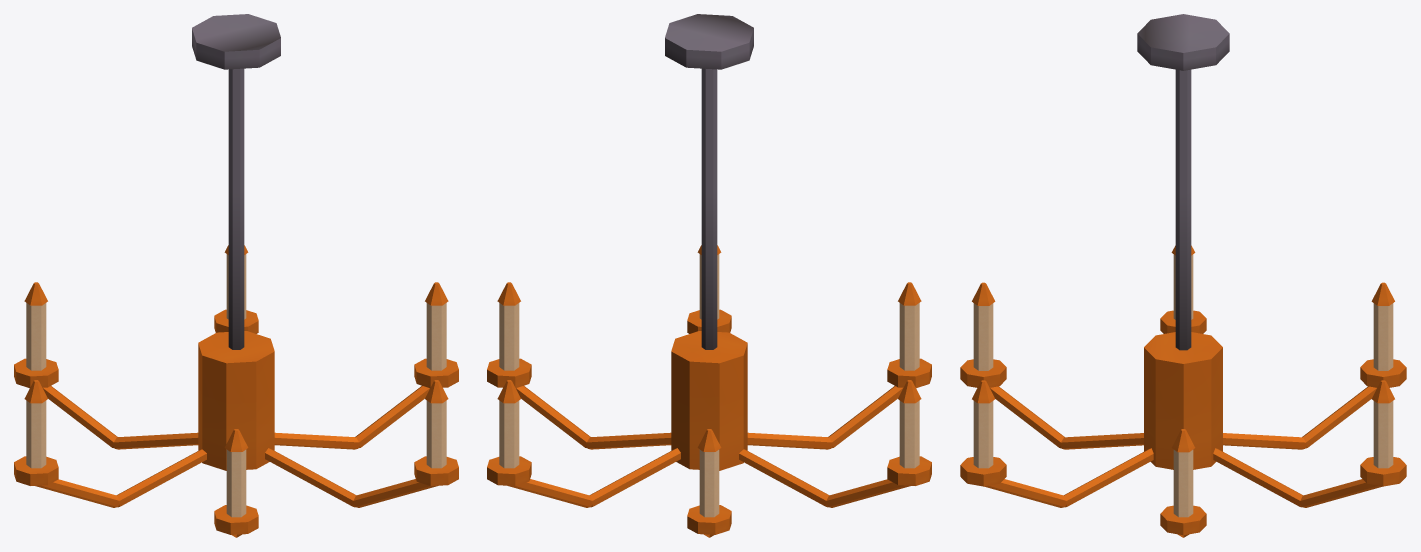
File: Chandelier.fbx
3 renders of one model, left to right at view 1: azimuth 30°, elevation 25°; view 2: azimuth 150°, elevation 25°; view 3: azimuth 270°, elevation 25°, orthographic.
Visible parts, largest first — view 1: Chandelier; view 2: Chandelier; view 3: Chandelier.
Part boxes in pixels (<box>): Chandelier: <box>14,14,458,537</box>; Chandelier: <box>487,14,931,537</box>; Chandelier: <box>960,14,1406,537</box>.
Bounding box in the file's own units: 0.77 × 0.7446 × 0.6762.
